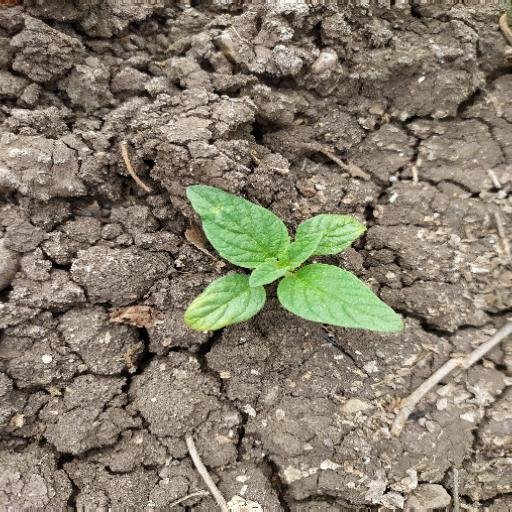crop: (174, 174, 411, 340)
